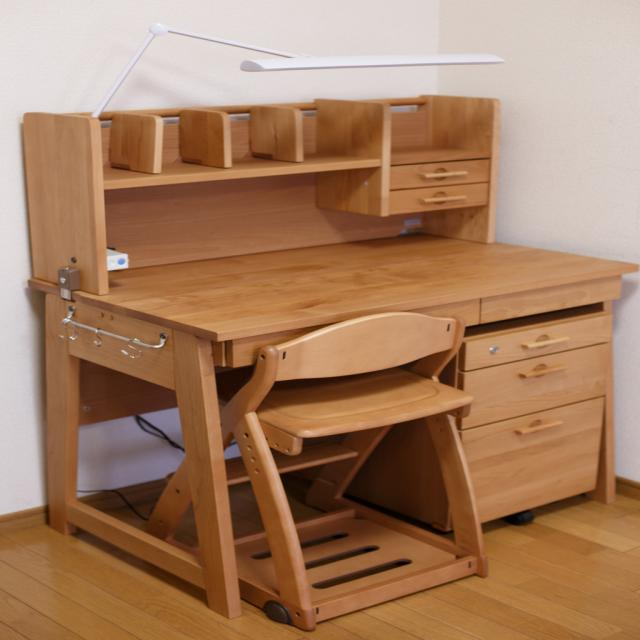chair: (237, 341, 492, 618)
desk: (49, 112, 614, 612)
